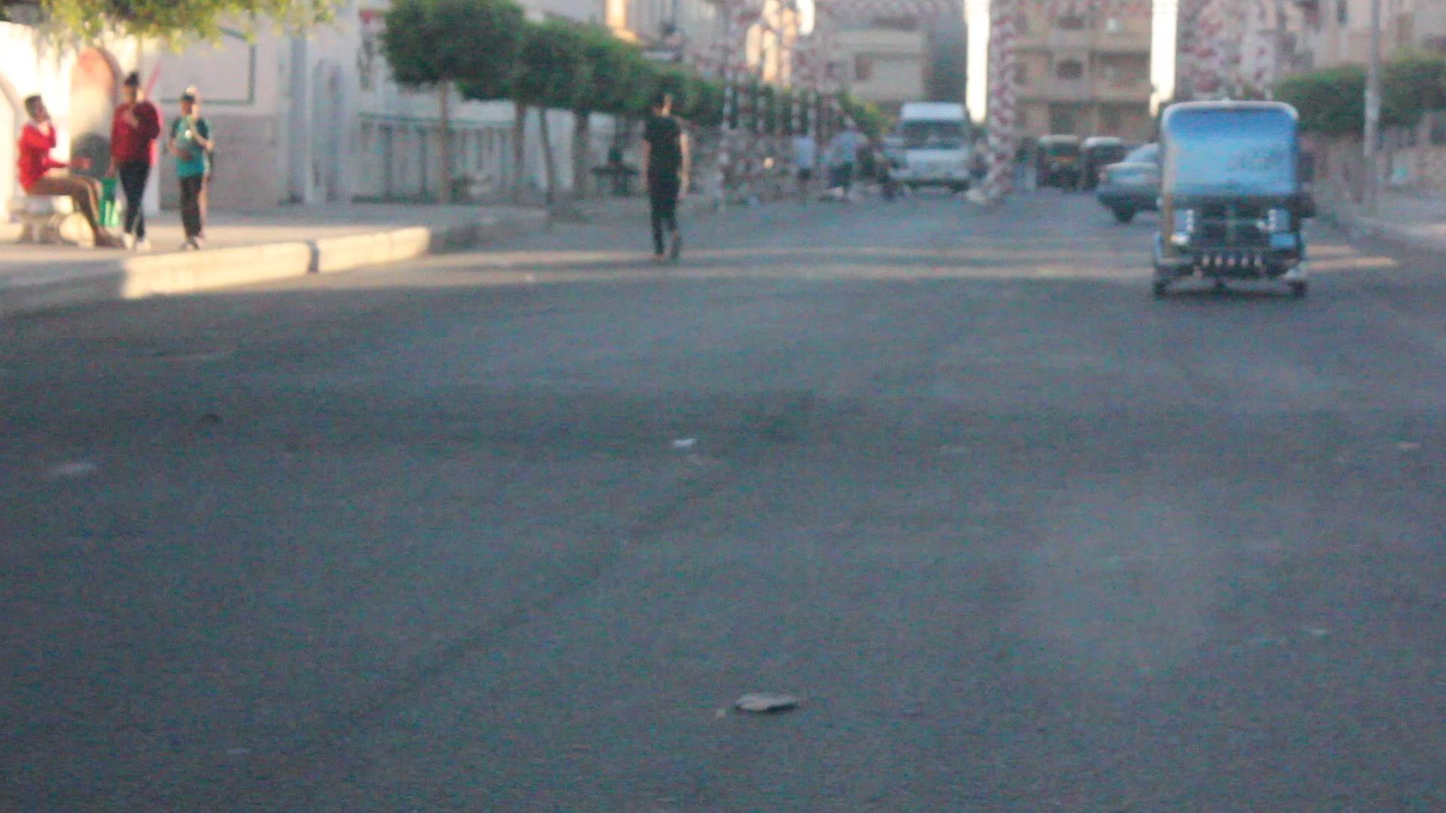Bump: (4, 352, 1446, 482)
